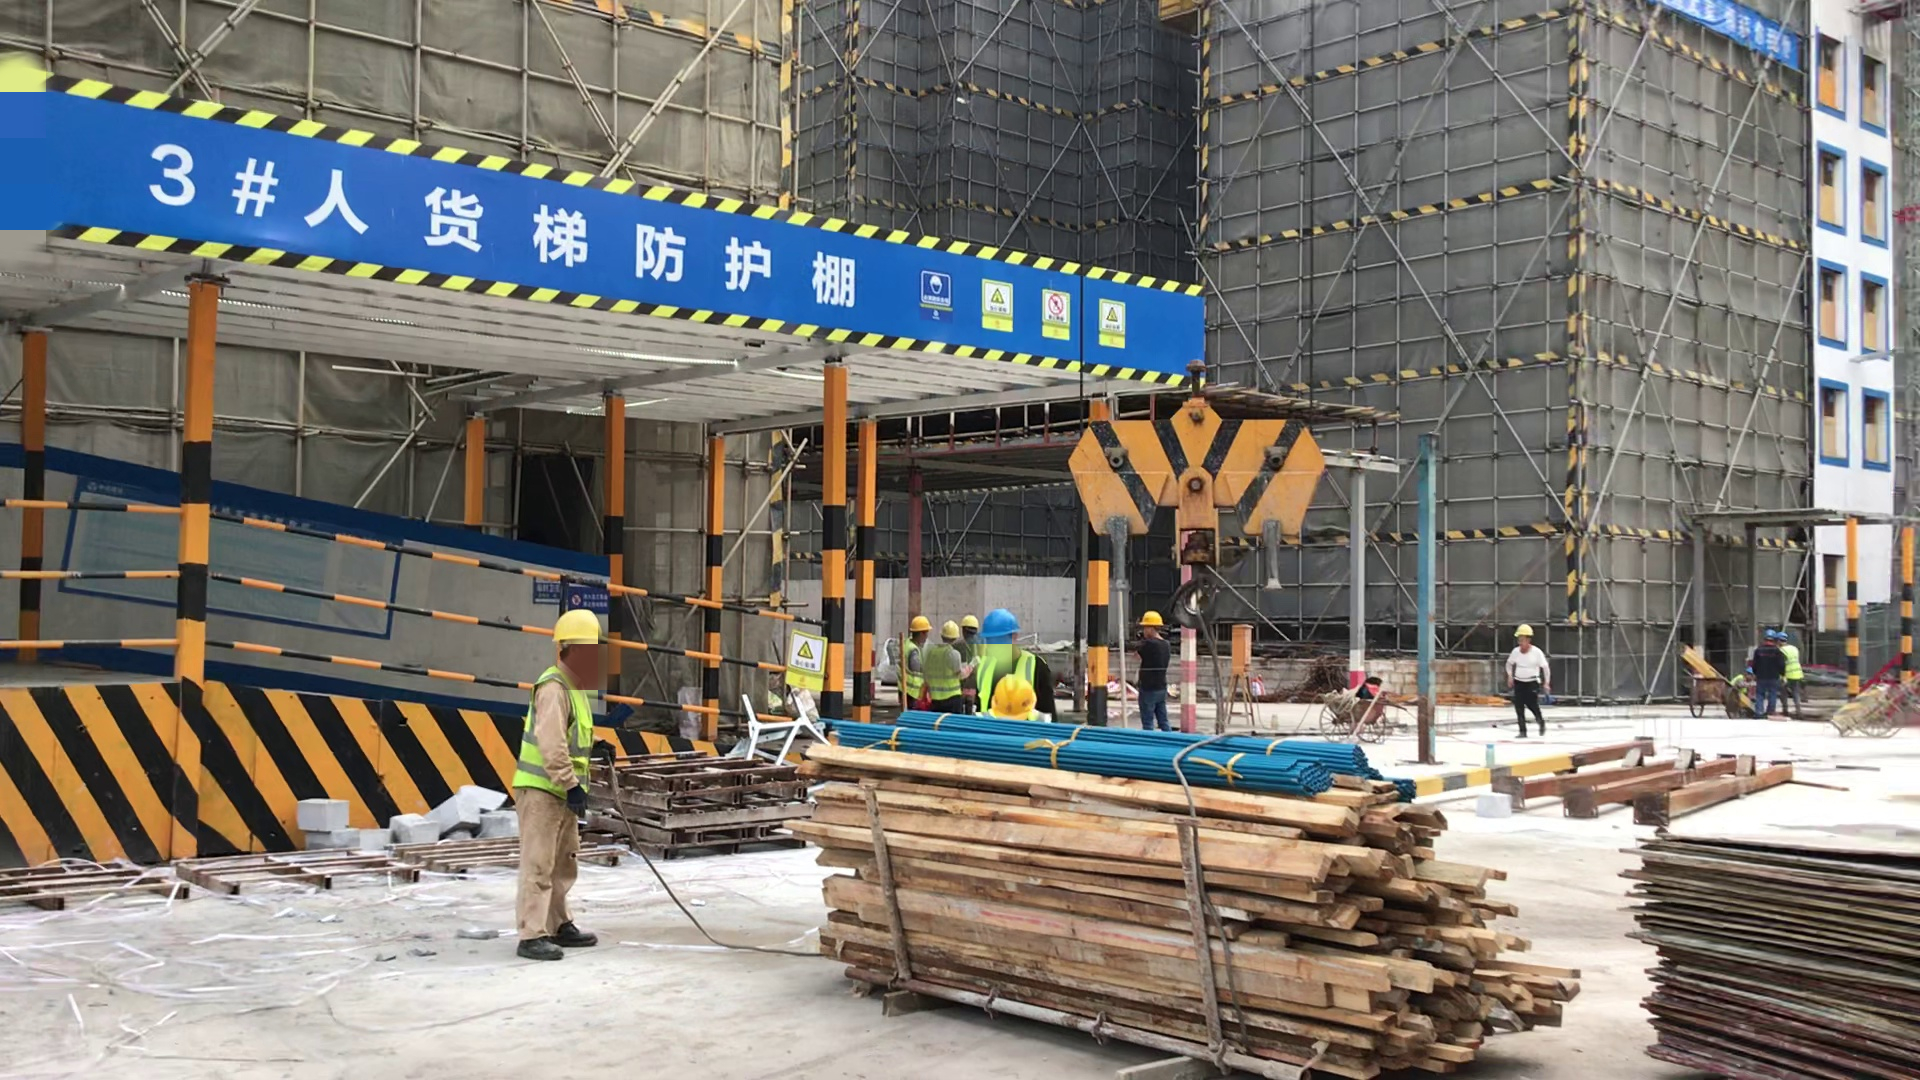board: (1633, 837, 1915, 1080)
ebox: (1223, 623, 1255, 723)
handcart: (1319, 695, 1401, 743), (1839, 685, 1902, 739), (1692, 673, 1740, 722)
helmet: (990, 677, 1037, 720), (551, 609, 602, 643), (979, 609, 1018, 635), (909, 617, 933, 633), (1139, 612, 1162, 627), (941, 621, 958, 641), (1512, 624, 1535, 637), (962, 616, 978, 629), (1765, 629, 1778, 640)
hook: (1065, 397, 1327, 630)
person: (521, 610, 602, 960), (975, 608, 1058, 722), (1500, 622, 1551, 734), (927, 619, 971, 715), (1135, 616, 1171, 730), (896, 615, 925, 710), (1756, 629, 1783, 718), (1782, 631, 1804, 715), (961, 610, 981, 666)
slogan: (906, 264, 1131, 370), (1680, 1, 1798, 68), (781, 634, 827, 698)
vest: (516, 673, 592, 805), (978, 660, 1042, 712), (928, 645, 965, 701), (899, 641, 924, 698), (1781, 641, 1803, 683)
wood: (811, 750, 1567, 1068)
